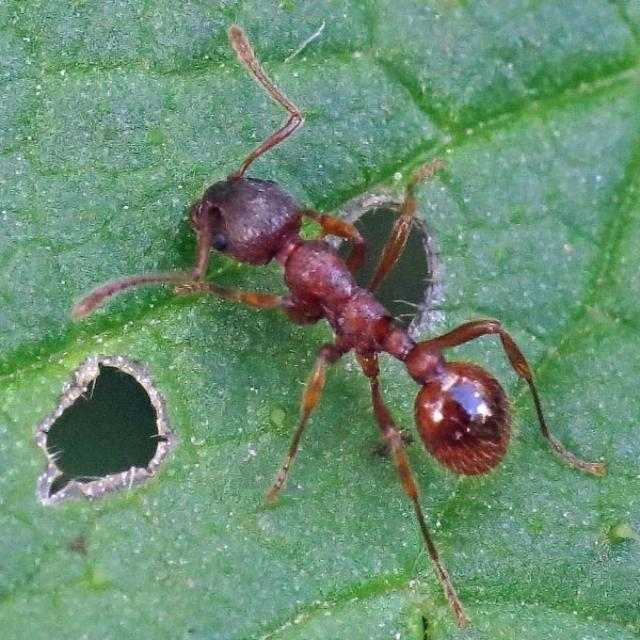Myrmica: (120, 90, 580, 452)
